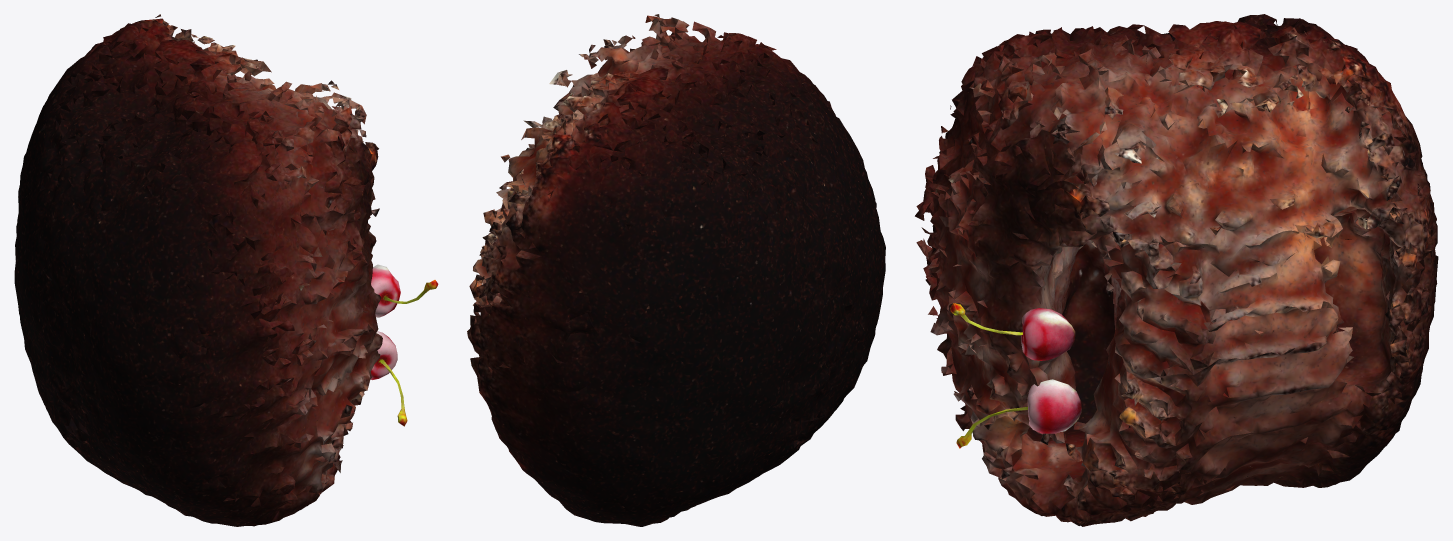
The model's file is cake_2.glb.
The picture shows the model from 3 angles, left to right: view 1: azimuth 30°, elevation 25°; view 2: azimuth 150°, elevation 25°; view 3: azimuth 270°, elevation 25°; orthographic projection. The views are drawn at different scales.
Parts seen in each view (by area): view 1: model, model.002, model.007; view 2: model; view 3: model, model.007, model.002.
Boxes of the visible parts, <box> form: model: <box>14,14,382,526</box>; model.002: <box>371,264,438,317</box>; model.007: <box>371,331,407,426</box>; model: <box>467,14,885,526</box>; model: <box>915,14,1438,526</box>; model.007: <box>956,379,1081,448</box>; model.002: <box>950,303,1075,360</box>.
Bounding box in the file's own units: 0.6678 × 0.8343 × 0.8291.
3 materials, 3 textured.
